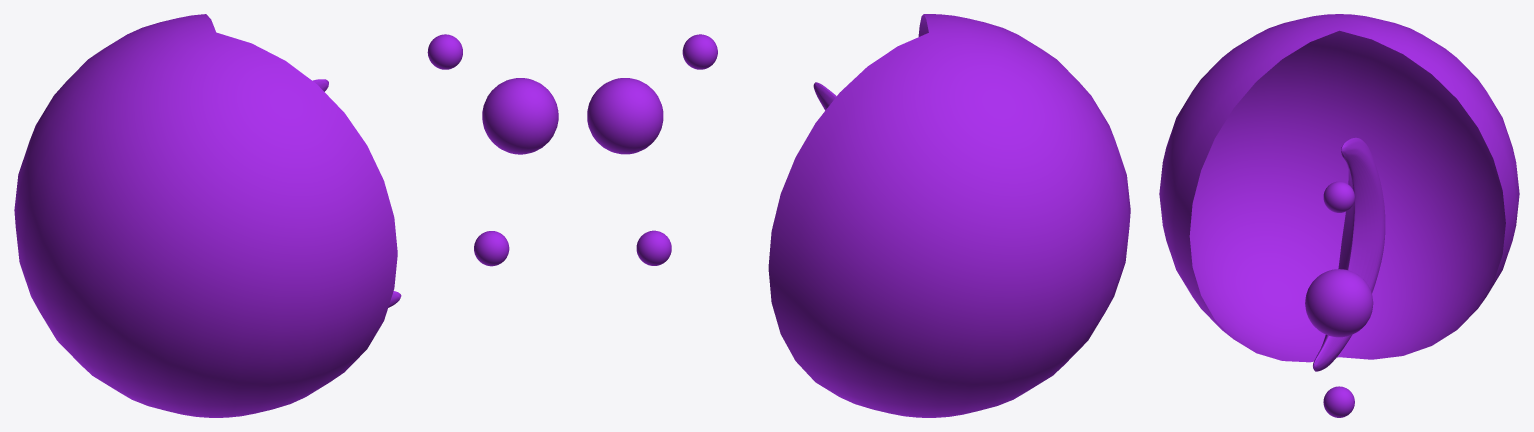
Rendered from moongalaxytextured.glb.
The picture shows the model from 3 angles, left to right: view 1: azimuth 30°, elevation 25°; view 2: azimuth 150°, elevation 25°; view 3: azimuth 270°, elevation 25°; orthographic projection. The views are drawn at different scales.
Parts seen in each view (by area): view 1: Sphere, Sphere.002, Sphere.003, Sphere.001; view 2: Sphere, Sphere.002, Sphere.001, Sphere.003; view 3: Sphere, Moon_big:Group41732, Sphere.002, Sphere.001, Sphere.003.
Part boxes in pixels (x1,y1,x2,y2): Sphere: [14, 14, 397, 417]; Sphere.002: [482, 78, 558, 154]; Sphere.003: [474, 231, 509, 266]; Sphere.001: [427, 34, 462, 69]; Sphere: [768, 14, 1130, 417]; Sphere.002: [587, 78, 663, 154]; Sphere.001: [682, 34, 717, 69]; Sphere.003: [636, 230, 671, 265]; Sphere: [1159, 14, 1519, 362]; Moon_big:Group41732: [1313, 137, 1385, 371]; Sphere.002: [1305, 269, 1373, 337]; Sphere.001: [1323, 181, 1354, 212]; Sphere.003: [1323, 386, 1354, 417].
Bounding box in the file's own units: 5.77 × 3.94 × 3.94.
